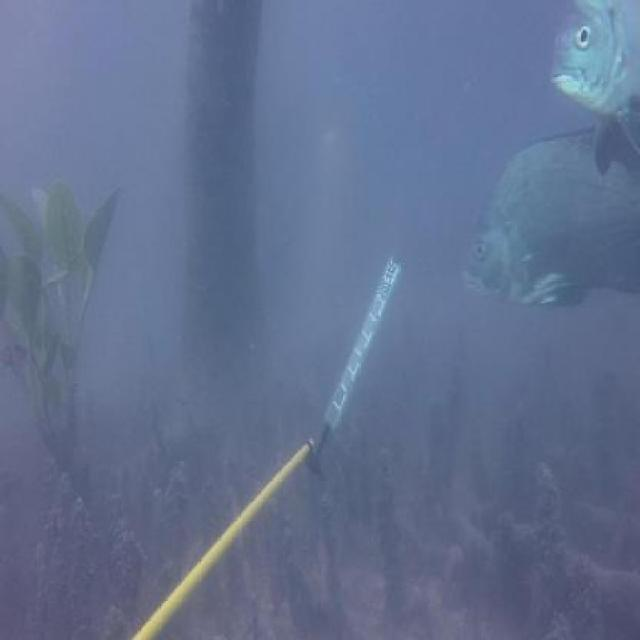acanthopagrus_palmaris: (458, 119, 640, 319), (549, 2, 640, 175)
